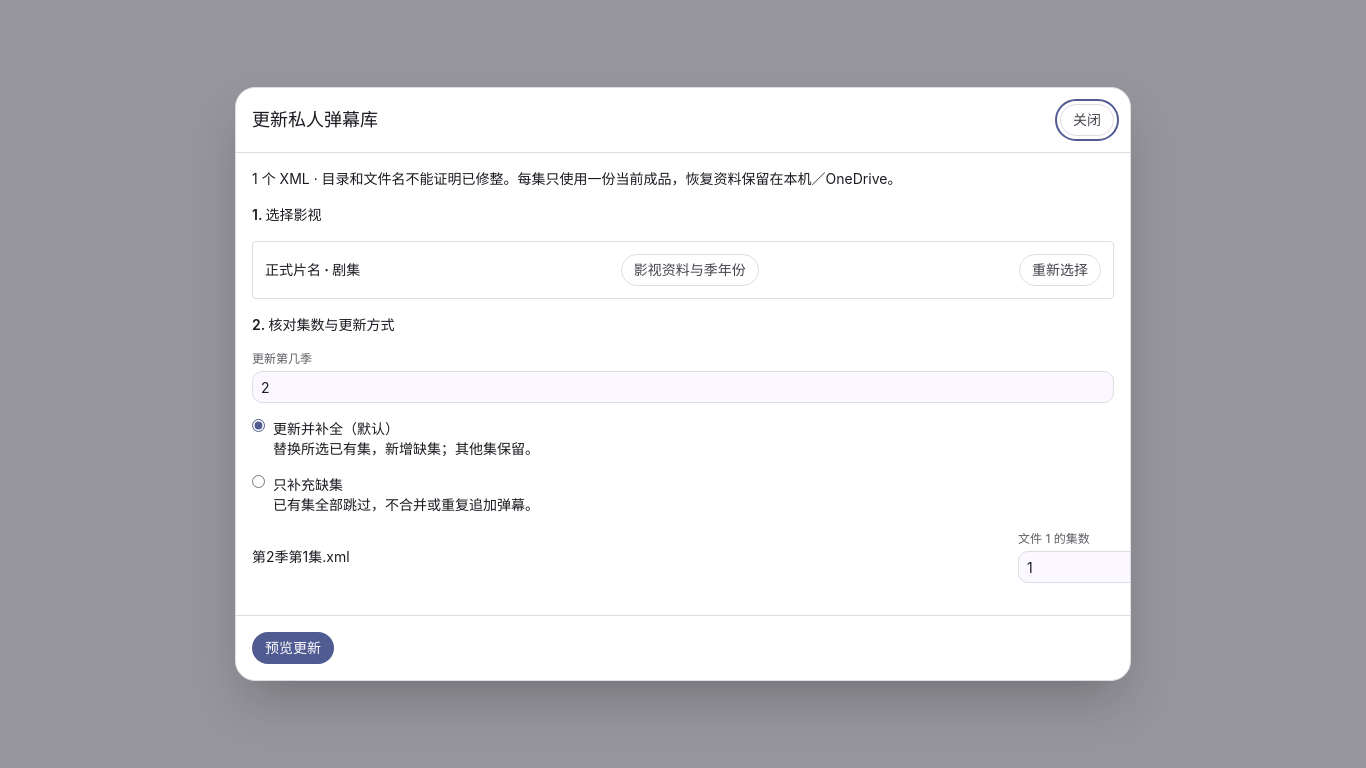
Scenario: keeps a successful upload receipt when approval fails and resumes approval without uploading again
Click the button "预览更新". click: (293, 648)
box: [252, 632, 334, 664]
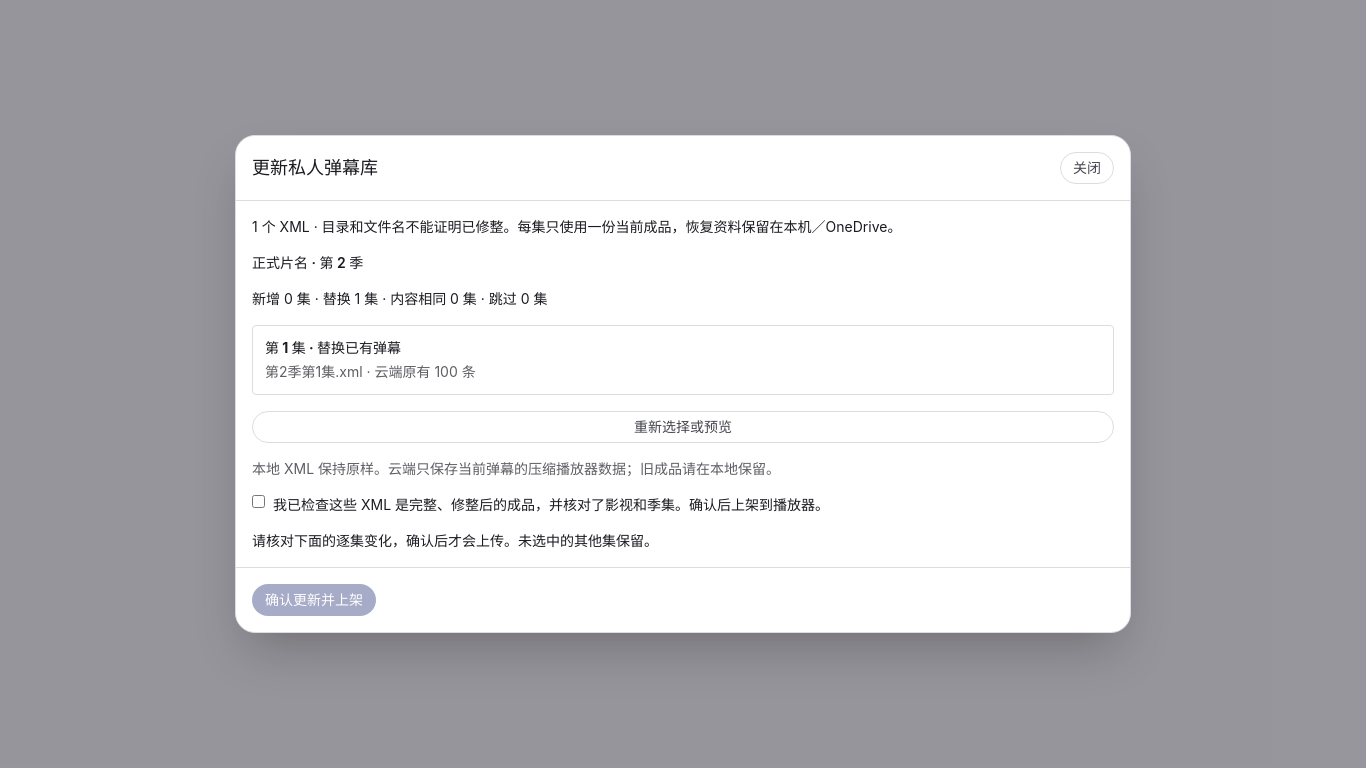
Now the text "第 1 集 · 替换已有弹幕" is shown, box [265, 339, 401, 356]
Click the checkbox. click: (258, 502)
box: [252, 495, 265, 508]
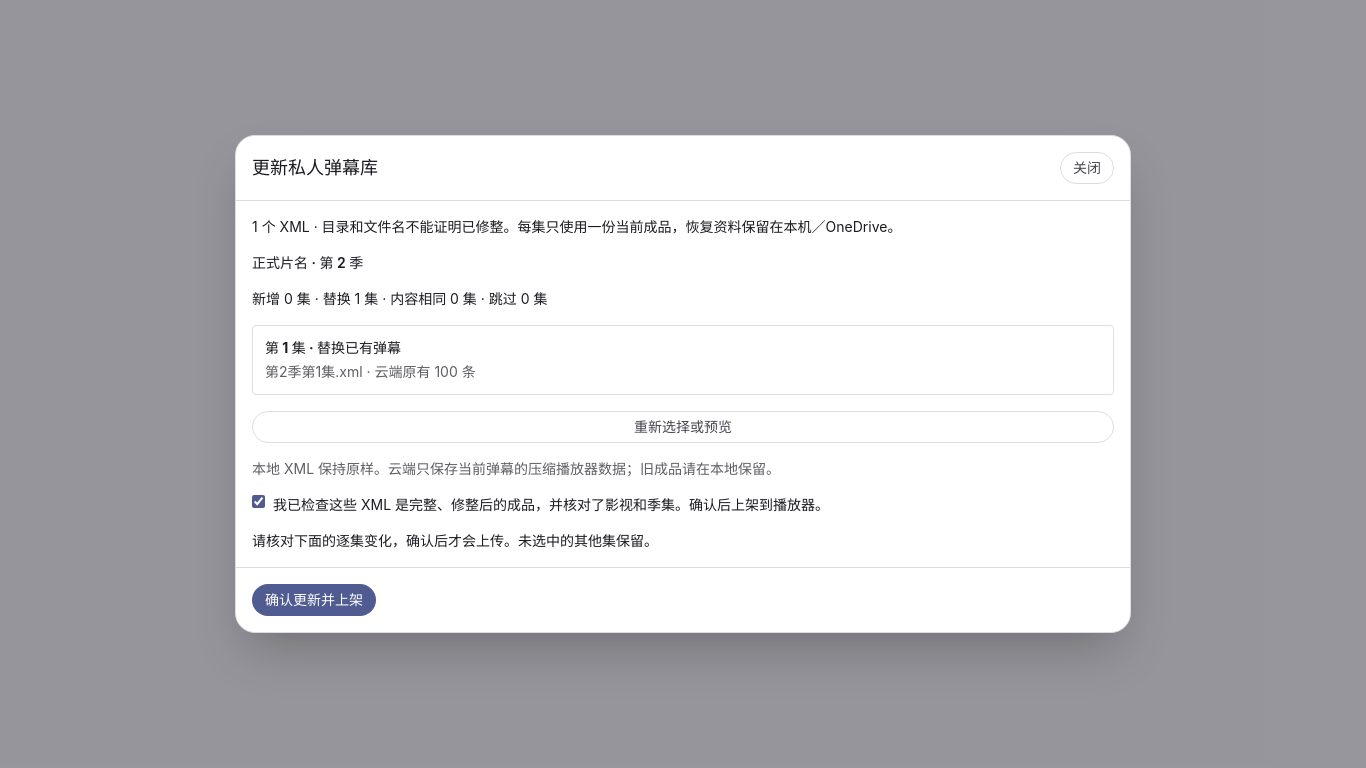
Click the button "确认更新并上架". click: (314, 600)
box: [252, 584, 376, 616]
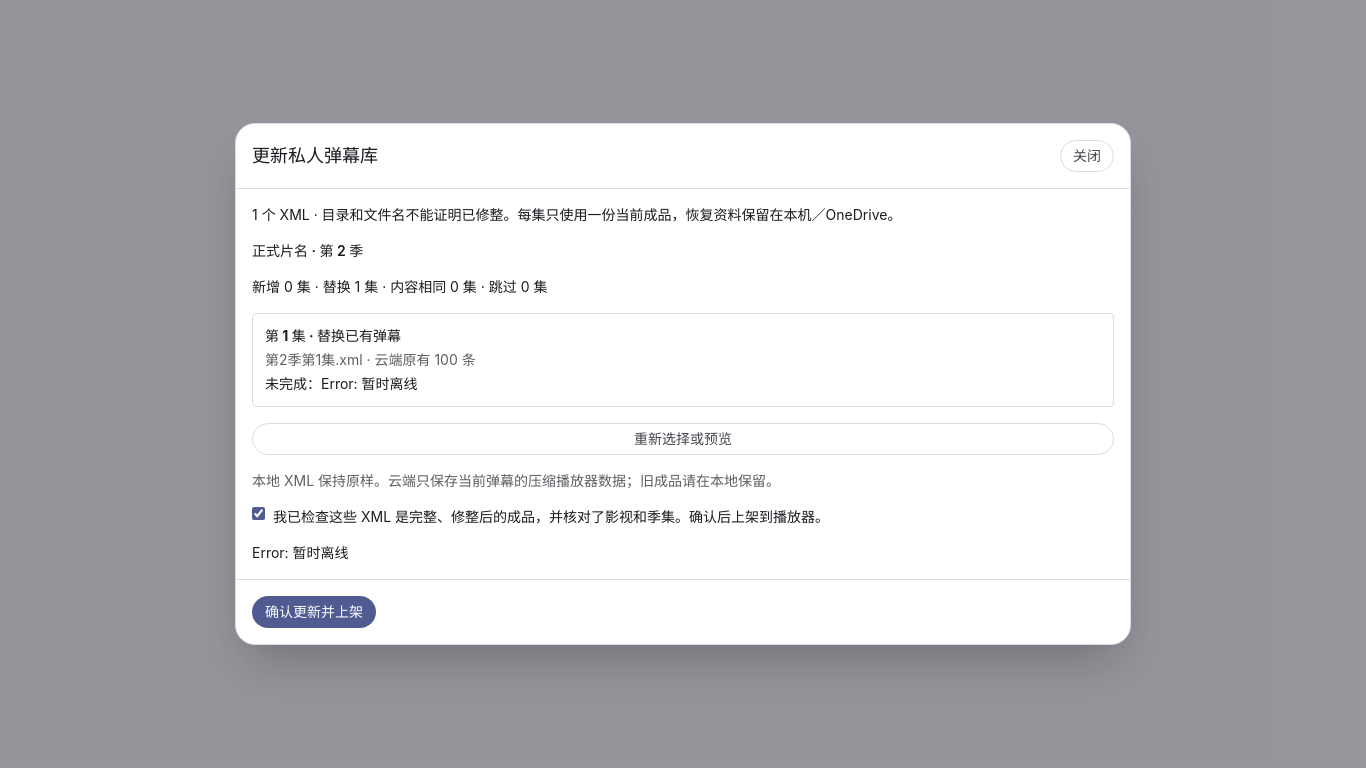
Now the button "确认更新并上架" is enabled
Click the button "确认更新并上架". click: (314, 612)
box: [252, 596, 376, 628]
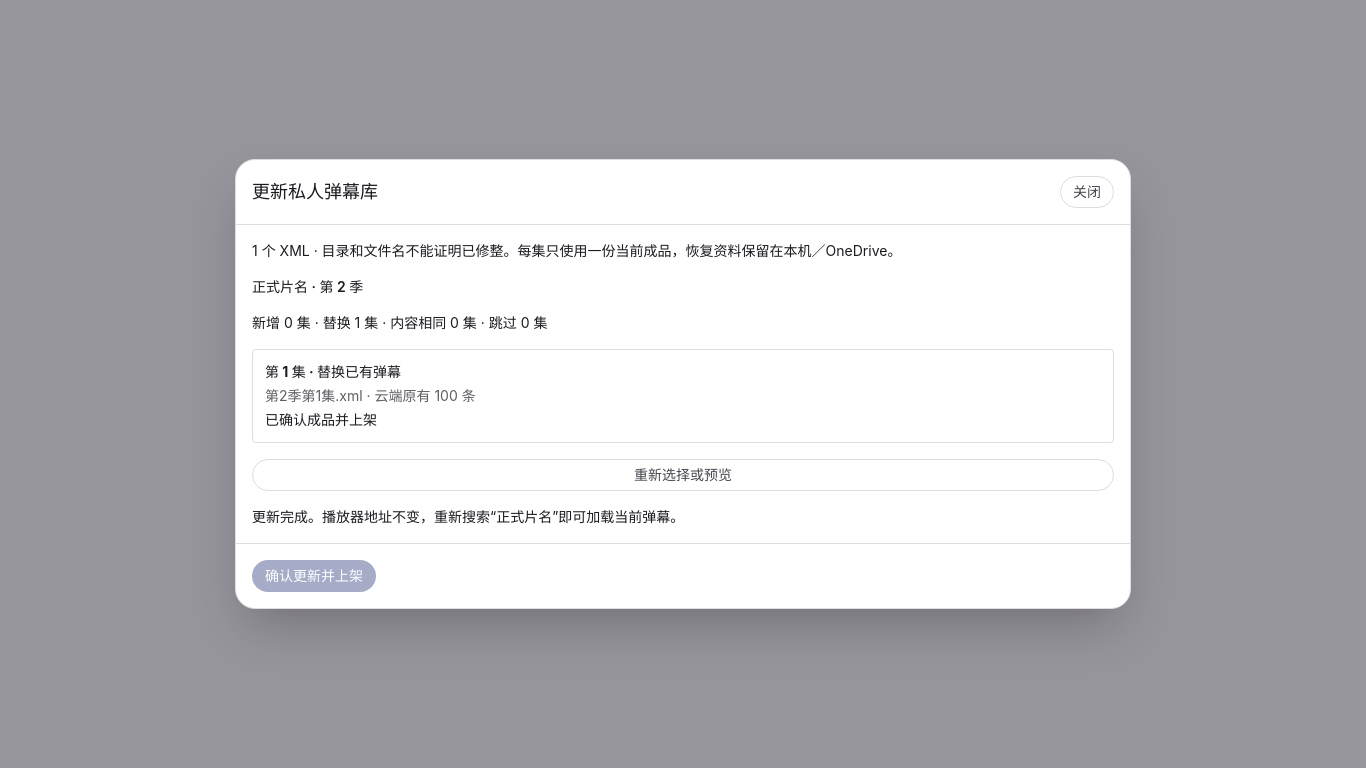
Now the text "更新完成。播放器地址不变，重新搜索“正式片名”即可加载当前弹幕。" is shown, box [252, 508, 684, 525]
